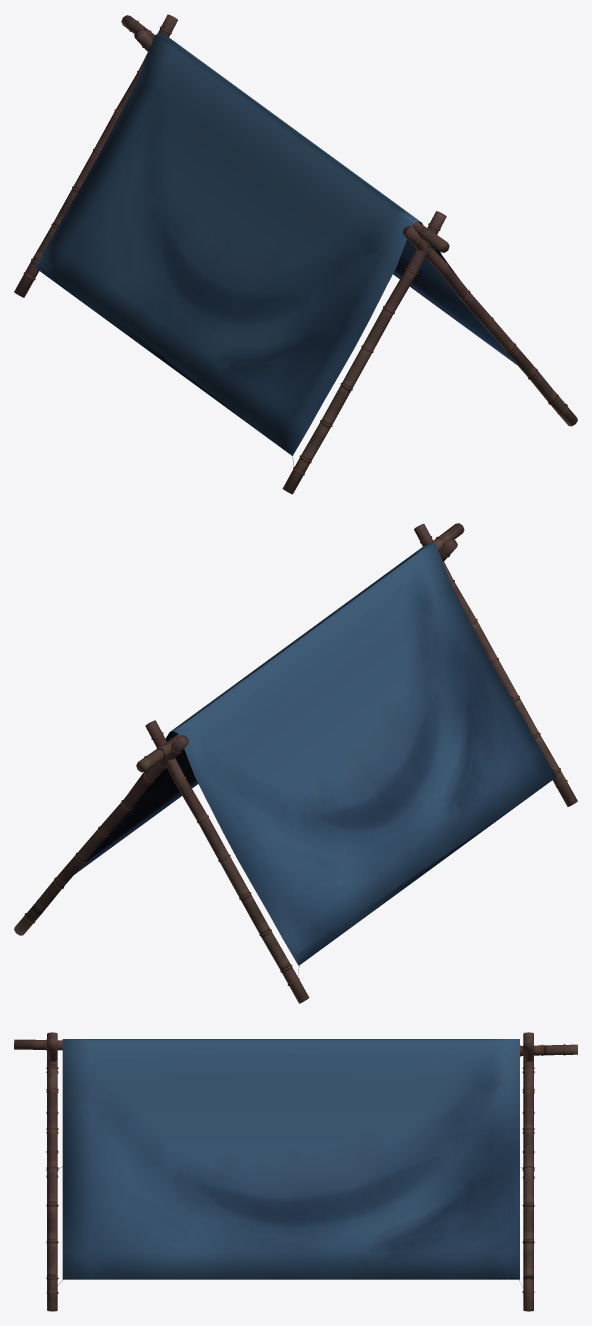
The model's file is Tenda2.fbx.
3 views of the same model, one above another, from view 1: azimuth 30°, elevation 25°; view 2: azimuth 150°, elevation 25°; view 3: azimuth 270°, elevation 25° (orthographic). The views are drawn at different scales.
Visible parts, largest first — view 1: Cylinder.120; view 2: Cylinder.120; view 3: Cylinder.120.
Boxes of the visible parts, box(x1,y1,x2,y2) form: Cylinder.120: box(14, 14, 577, 494); Cylinder.120: box(14, 523, 577, 1003); Cylinder.120: box(14, 1032, 577, 1311).
Size of the model in its own units: 4411 by 3535 by 8275.
